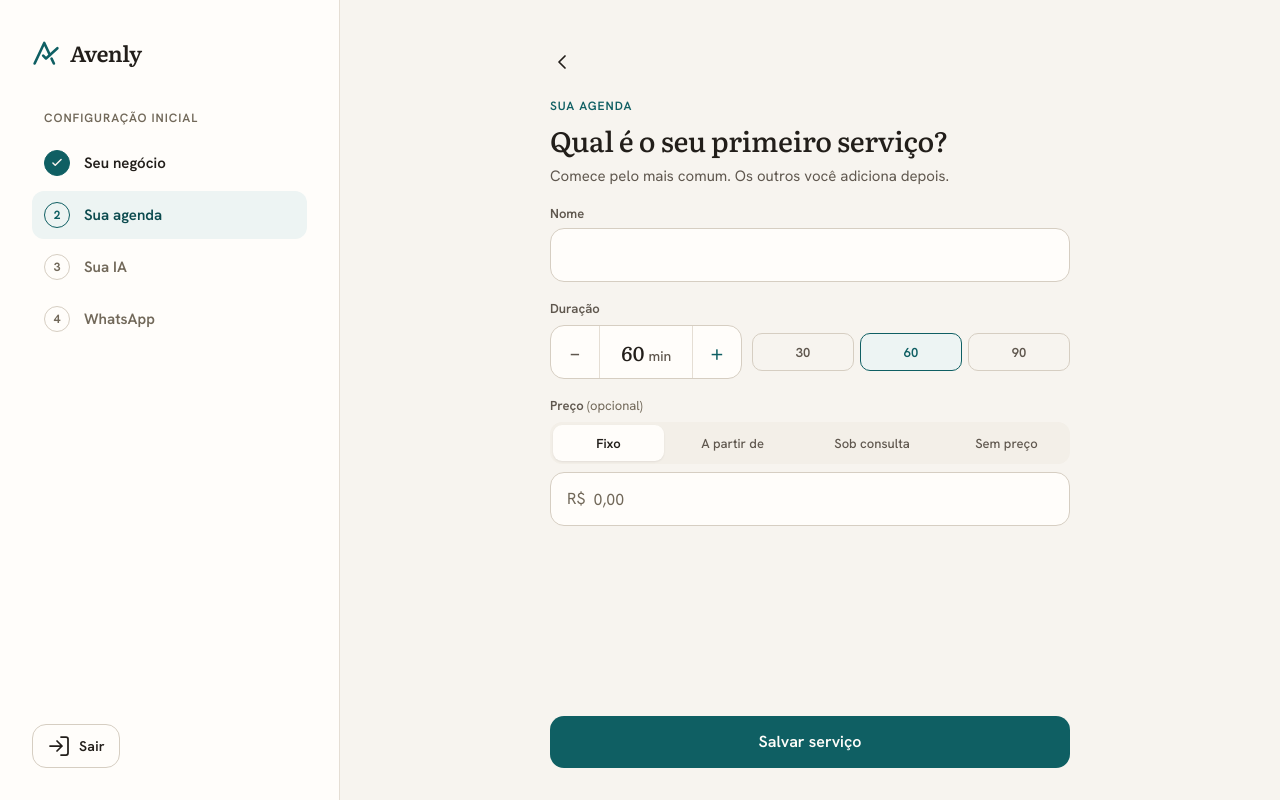
Scenario: duração: passos de 5 minutos e atalhos (§6.6) › o atalho 90 dá 90 com aria-pressed=true e desmarca os outros
Expected: the number field named "Duração em minutos" is shown, x1=621 y1=337 x2=644 y2=367
Click the button "90".
click(1019, 352)  # box x1=968 y1=333 x2=1070 y2=371
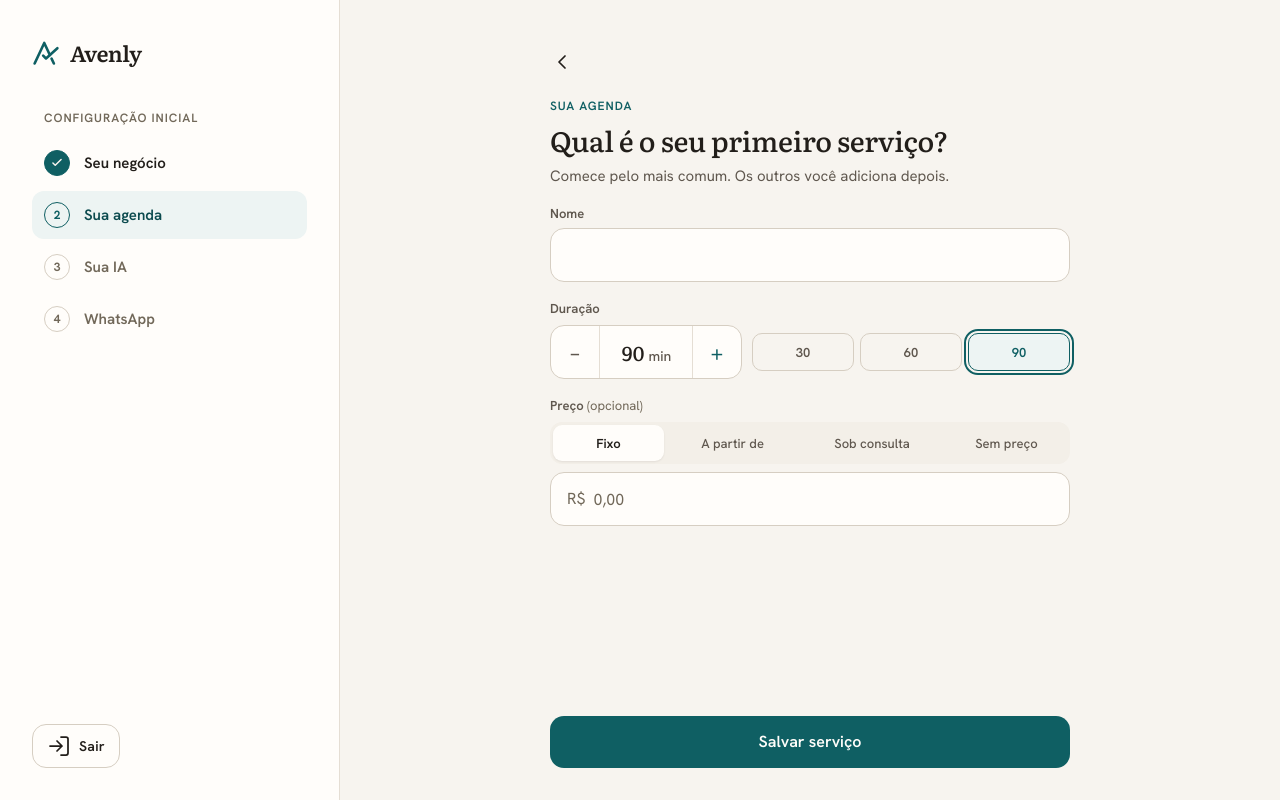
Expected: the number field named "Duração em minutos" holds "90", x1=621 y1=337 x2=644 y2=367
